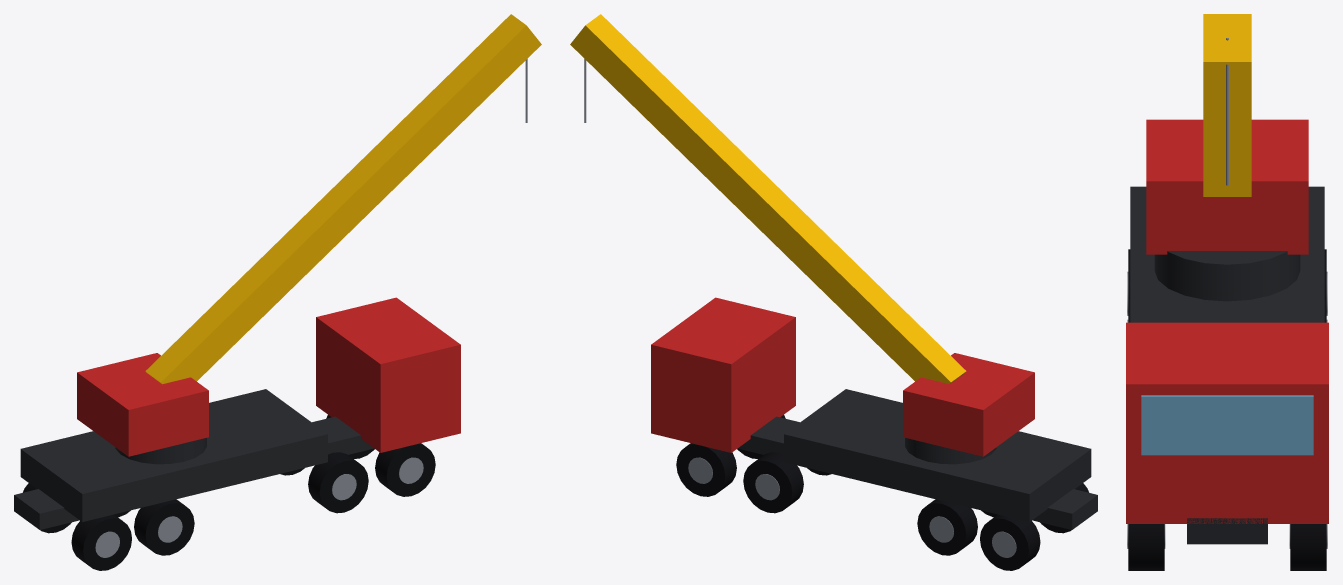
File: truck-mounted-crane.glb
3 renders of one model, left to right at view 1: azimuth 30°, elevation 25°; view 2: azimuth 150°, elevation 25°; view 3: azimuth 270°, elevation 25°, orthographic. The views are drawn at different scales.
Size of the model in its own units: 11.36 by 8.98 by 2.5.
